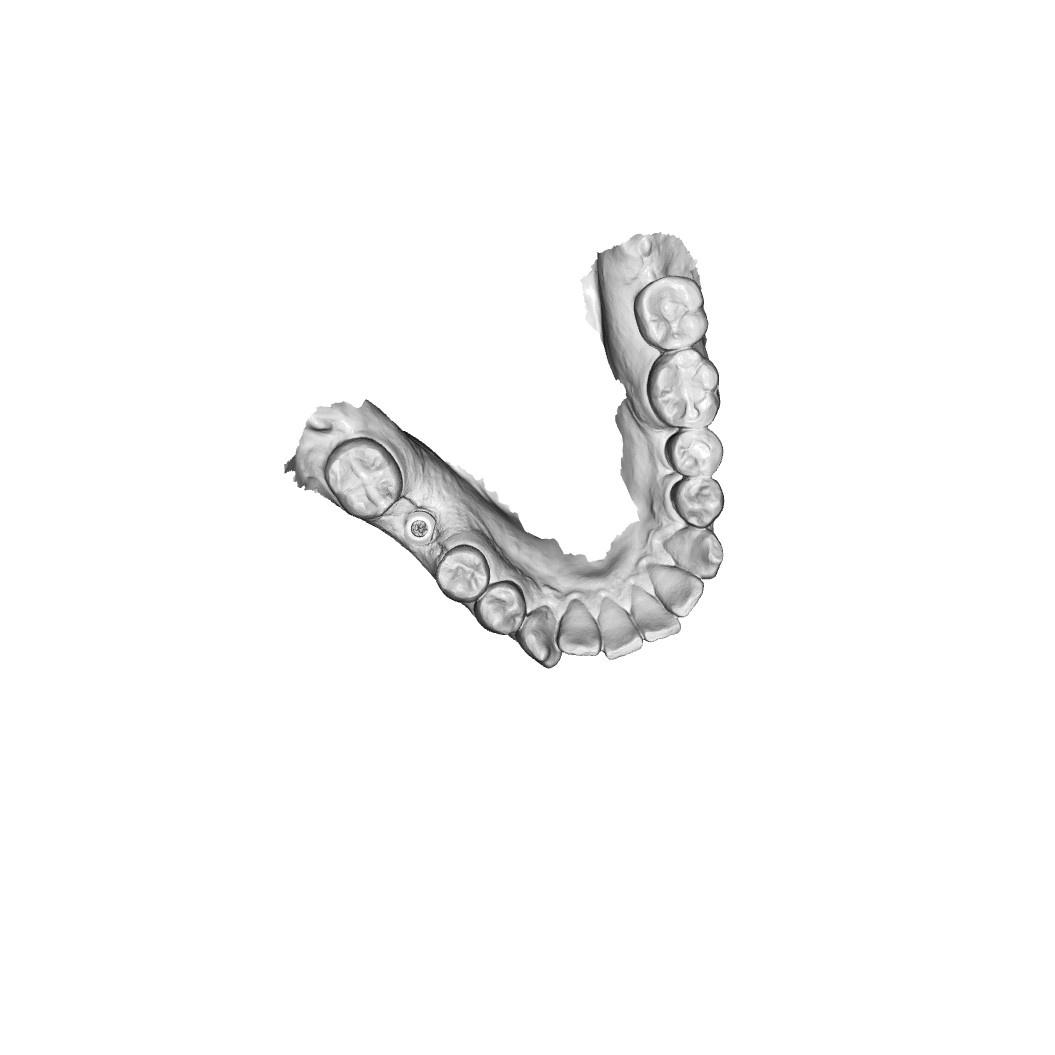canine: (665, 526, 726, 581), (517, 609, 557, 671)
implant: (402, 507, 445, 550)
incisor: (648, 566, 704, 620), (632, 584, 682, 643), (557, 601, 602, 662), (599, 604, 644, 660)
molar: (323, 438, 400, 520), (647, 350, 723, 430), (633, 276, 707, 353)
premolar: (668, 474, 727, 528), (473, 583, 528, 638), (666, 427, 722, 481), (435, 546, 487, 600)
